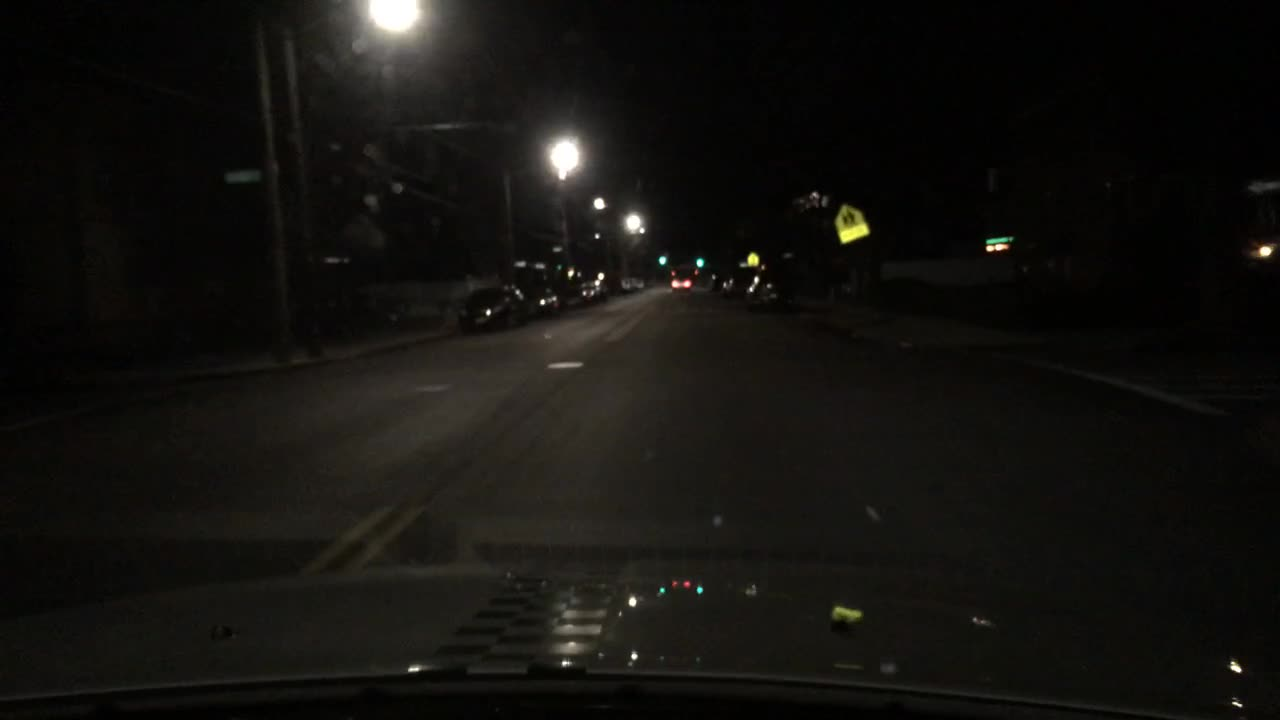car: (457, 285, 528, 334), (745, 271, 802, 308), (524, 280, 564, 316), (558, 280, 610, 305), (666, 268, 693, 292), (722, 275, 749, 297), (706, 270, 726, 286)
traffic light: (653, 253, 667, 266), (696, 258, 705, 269)
traffic sign: (831, 197, 872, 246), (224, 166, 263, 183), (1244, 178, 1278, 194), (744, 252, 761, 266)
